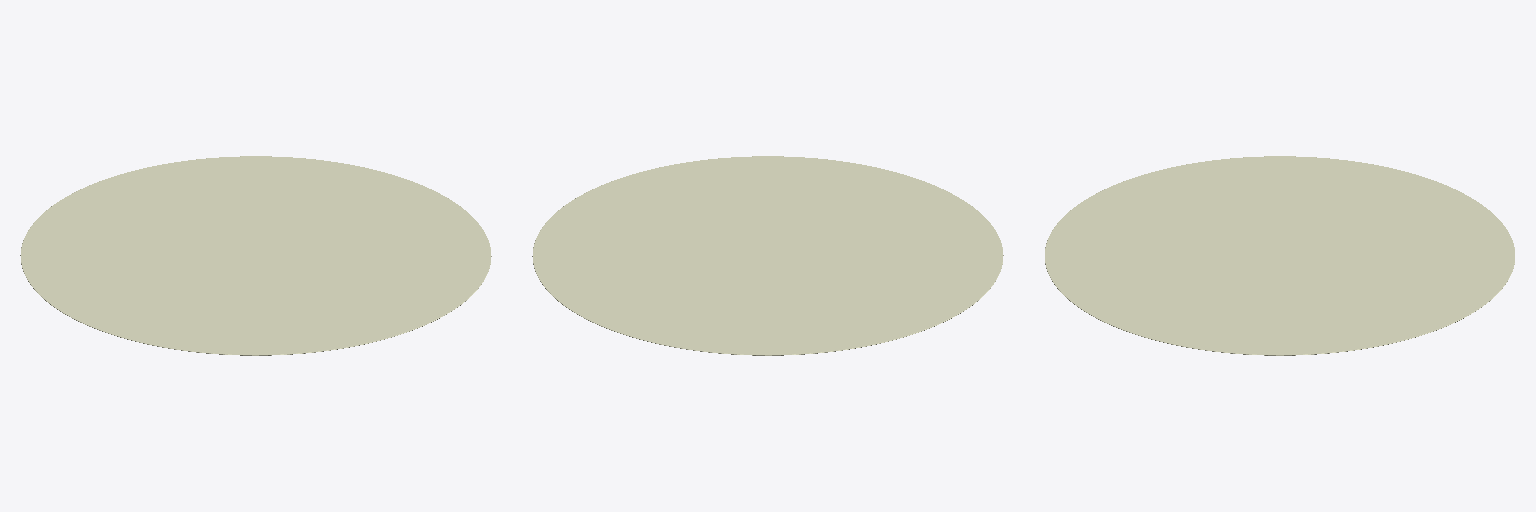
Rendered from disk.obj.
3 renders of one model, left to right at view 1: azimuth 30°, elevation 25°; view 2: azimuth 150°, elevation 25°; view 3: azimuth 270°, elevation 25°, orthographic.
Parts seen in each view (by area): view 1: Mesh1 Model; view 2: Mesh1 Model; view 3: Mesh1 Model.
Part boxes in pixels (bbox=[...]): Mesh1 Model: bbox=[20, 156, 491, 355]; Mesh1 Model: bbox=[532, 156, 1003, 355]; Mesh1 Model: bbox=[1045, 156, 1514, 355].
Size of the model in its own units: 6000 by 10 by 6000.